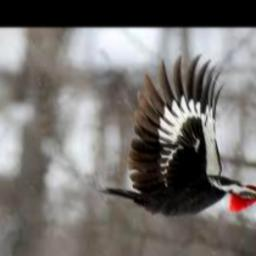Woodpecker: (100, 57, 256, 215)
